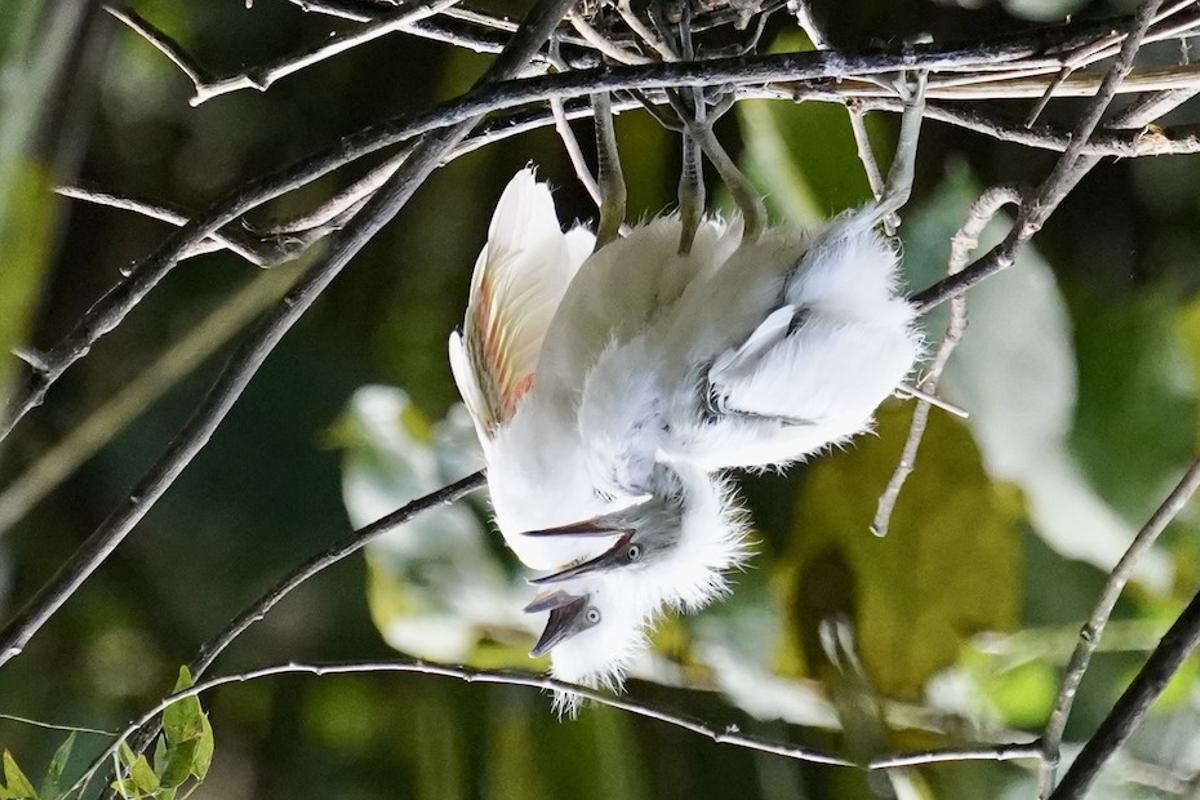egret: (530, 71, 952, 601), (440, 32, 745, 673)
